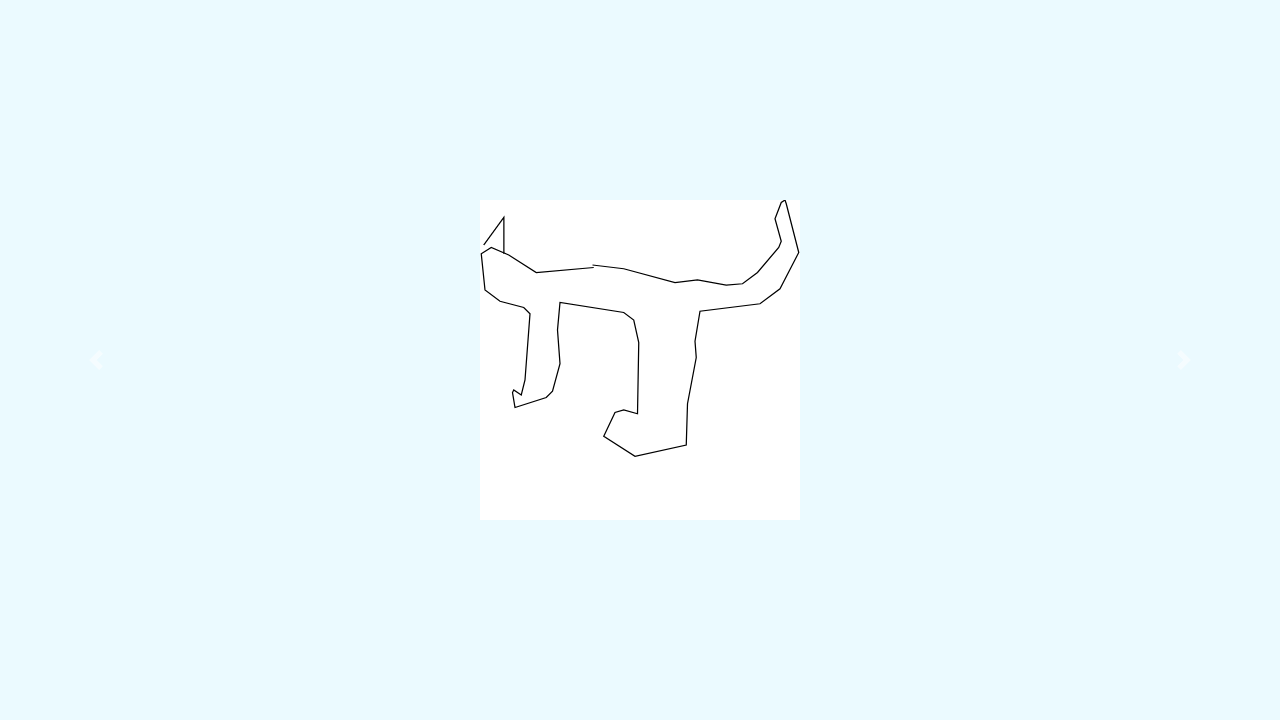cat: (472, 191, 807, 467)
